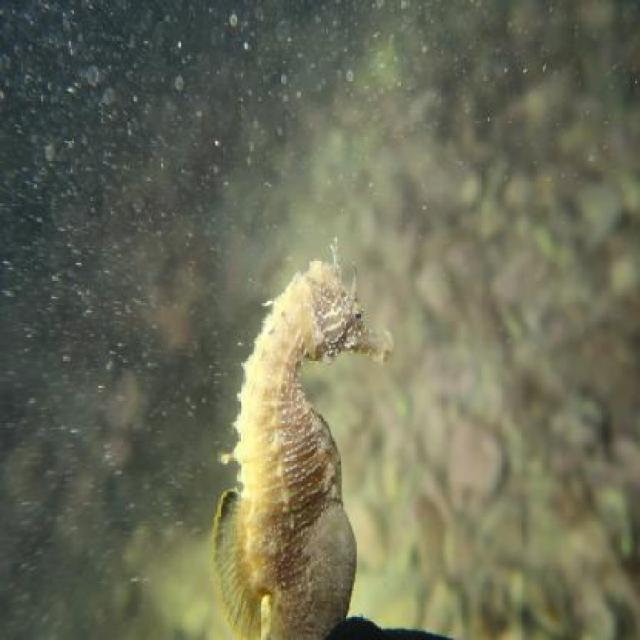Guttu: (290, 258, 406, 370)
